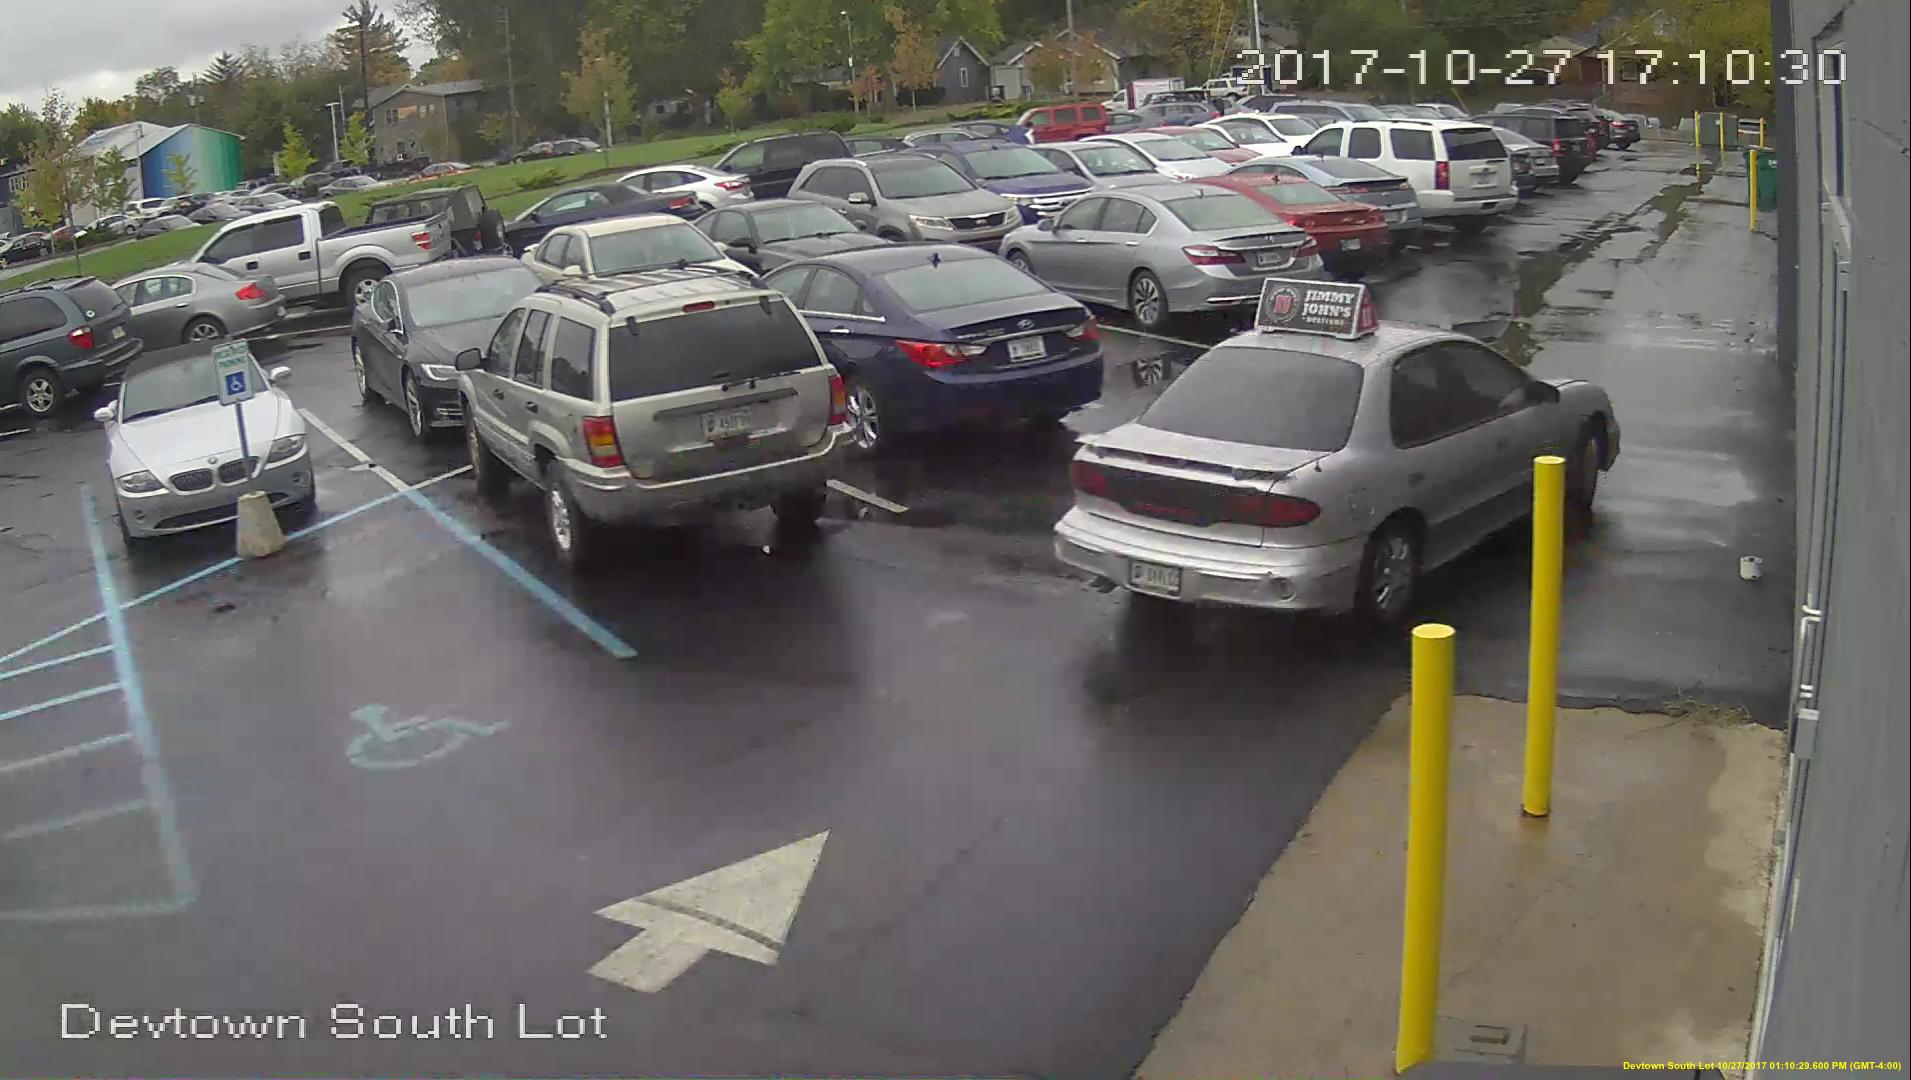jimmy_johns: (1256, 276, 1375, 341)
